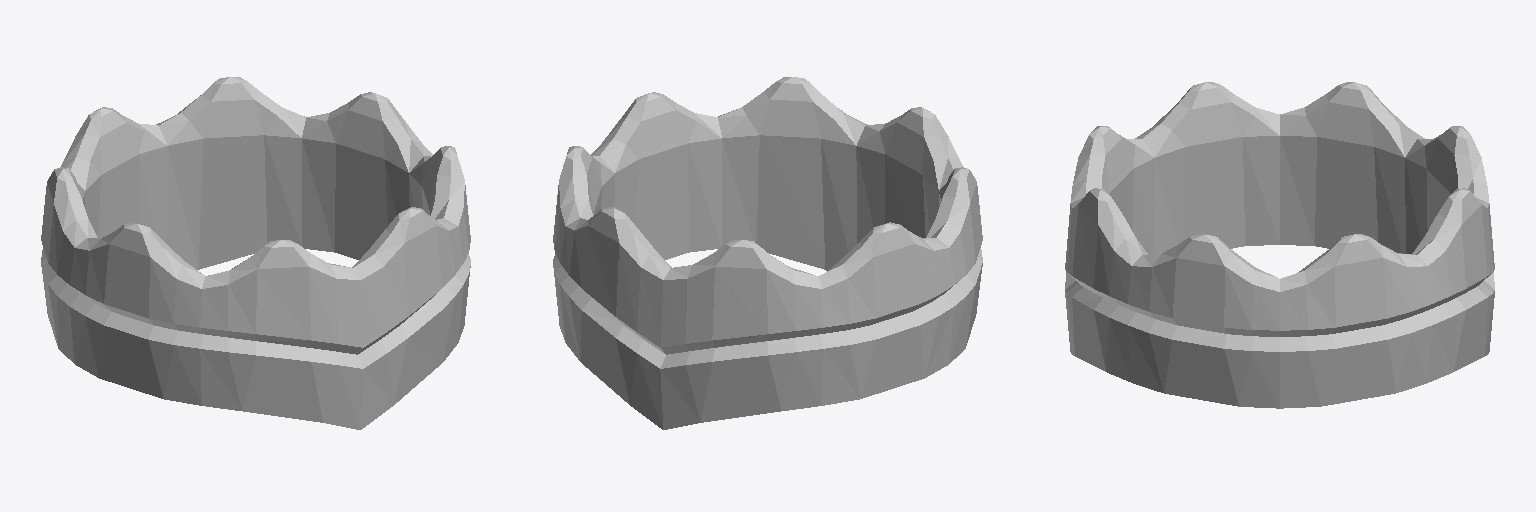
File: character_queenCrown.obj
3 views of the same model, side by side, from view 1: azimuth 30°, elevation 25°; view 2: azimuth 150°, elevation 25°; view 3: azimuth 270°, elevation 25° (orthographic).
Parts seen in each view (by area): view 1: character_queenCrown_Cylinder.086; view 2: character_queenCrown_Cylinder.086; view 3: character_queenCrown_Cylinder.086.
Boxes of the visible parts, <box> form: character_queenCrown_Cylinder.086: <box>41,77,470,429</box>; character_queenCrown_Cylinder.086: <box>553,77,982,429</box>; character_queenCrown_Cylinder.086: <box>1065,82,1494,408</box>.
Bounding box in the file's own units: 0.7447 × 0.3732 × 0.7447.